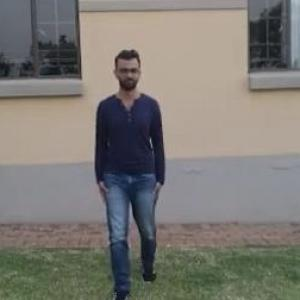follow: (83, 27, 173, 299)
